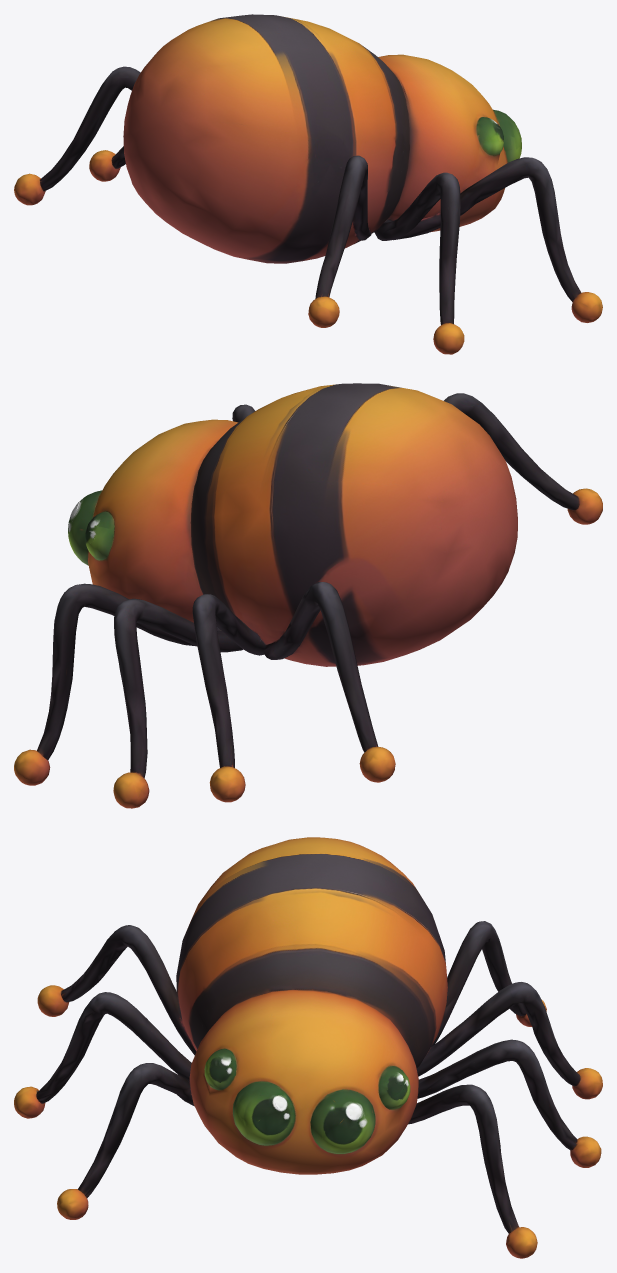
File: E3_Dangle_LOD0.fbx
3 views of the same model, one above another, from view 1: azimuth 30°, elevation 25°; view 2: azimuth 150°, elevation 25°; view 3: azimuth 270°, elevation 25° (orthographic). The views are drawn at different scales.
Parts seen in each view (by area): view 1: E3_Dangle_LOD0; view 2: E3_Dangle_LOD0; view 3: E3_Dangle_LOD0.
Boxes of the visible parts, bbox=[...] form: E3_Dangle_LOD0: bbox=[14, 14, 602, 354]; E3_Dangle_LOD0: bbox=[14, 383, 602, 808]; E3_Dangle_LOD0: bbox=[14, 837, 602, 1258].
Bounding box in the file's own units: 0.1141 × 0.09 × 0.1552.
1 material, 1 textured.
